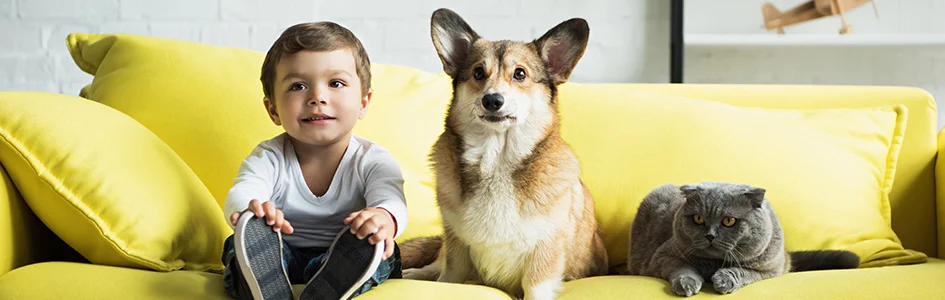person: (259, 25, 372, 146)
